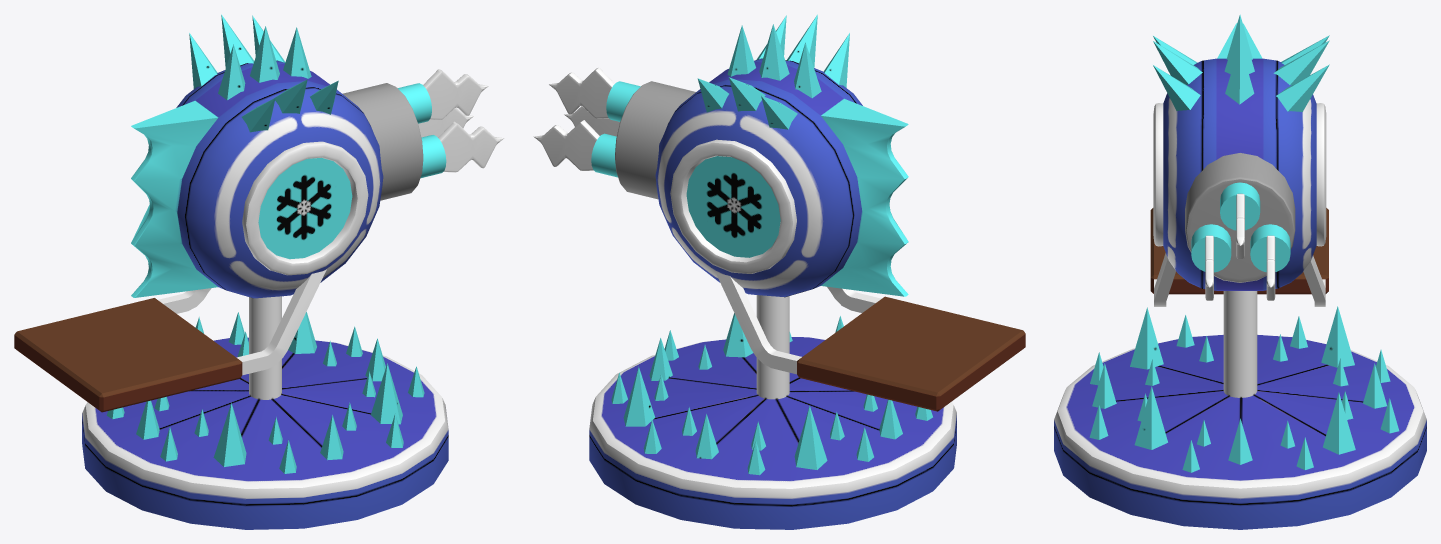
The model's file is FreezerayUG2.fbx.
The picture shows the model from 3 angles, left to right: view 1: azimuth 30°, elevation 25°; view 2: azimuth 150°, elevation 25°; view 3: azimuth 270°, elevation 25°; orthographic projection.
Visible parts, largest first — view 1: Top_FreezerayUG2, Bottom_FreezerayUG2; view 2: Top_FreezerayUG2, Bottom_FreezerayUG2; view 3: Bottom_FreezerayUG2, Top_FreezerayUG2.
Part boxes in pixels (<box>): Top_FreezerayUG2: <box>14,14,504,412</box>; Bottom_FreezerayUG2: <box>82,296,448,529</box>; Top_FreezerayUG2: <box>533,14,1025,411</box>; Bottom_FreezerayUG2: <box>589,295,956,529</box>; Bottom_FreezerayUG2: <box>1054,291,1426,529</box>; Top_FreezerayUG2: <box>1150,14,1329,306</box>.
Bounding box in the file's own units: 87.2 × 82.17 × 64.27.
Materials: 2 (1 with a texture image).
